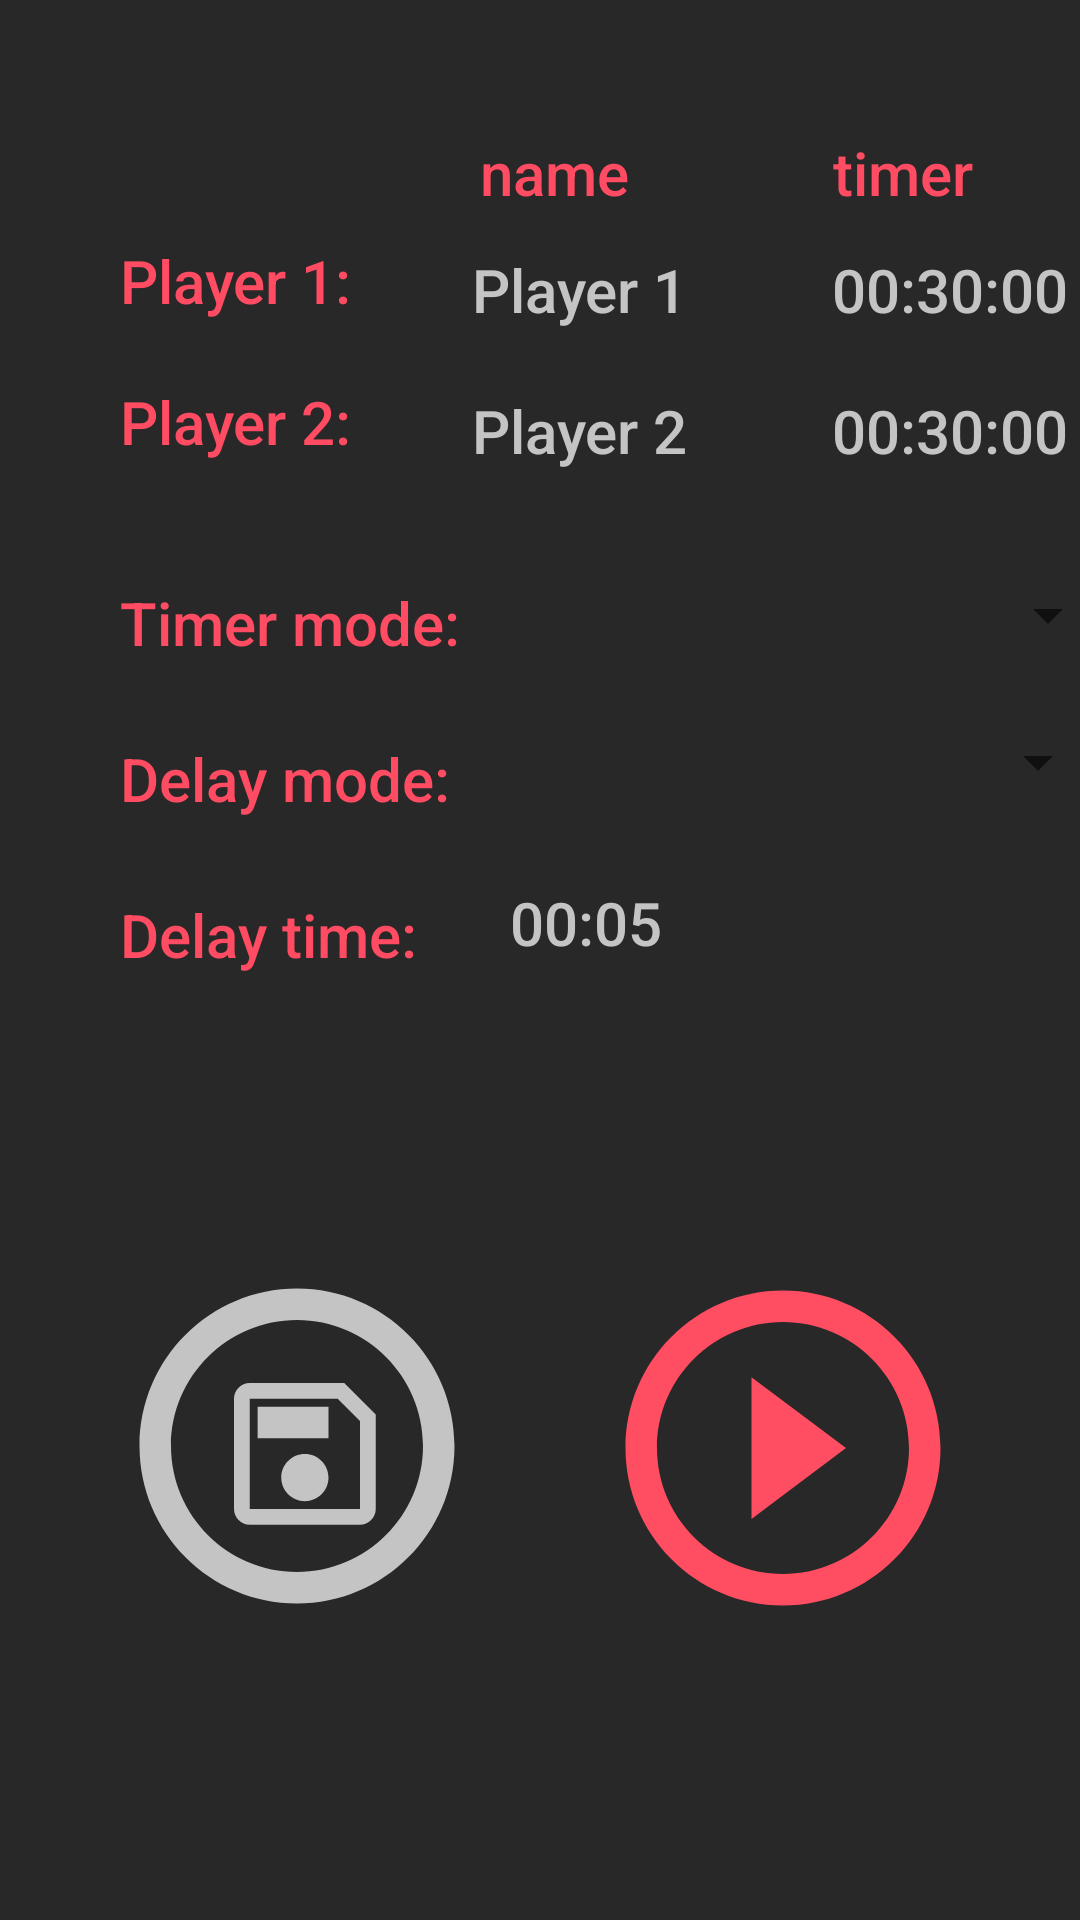

Icon click points for this 1080×1920 phone screenshot, format (x,y):
play circle: (783,1448)
save circle: (297,1446)
